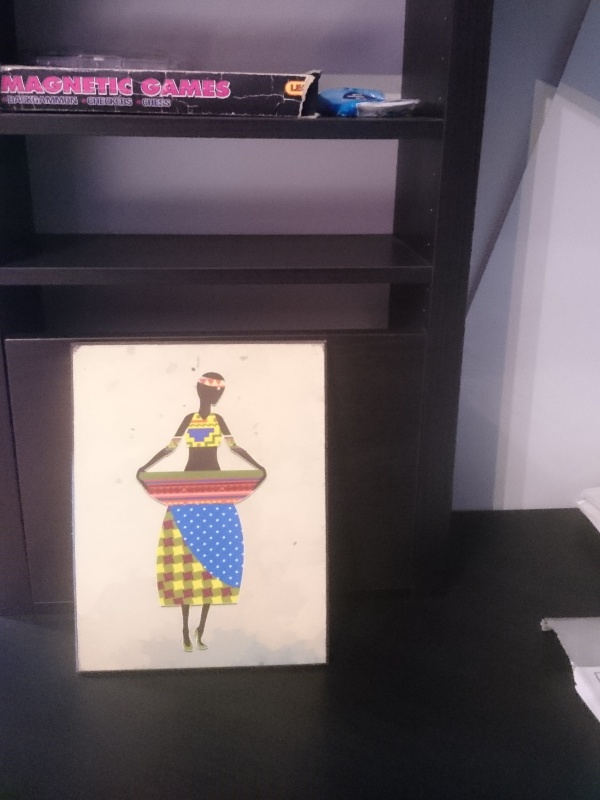my image: (73, 345, 324, 671)
